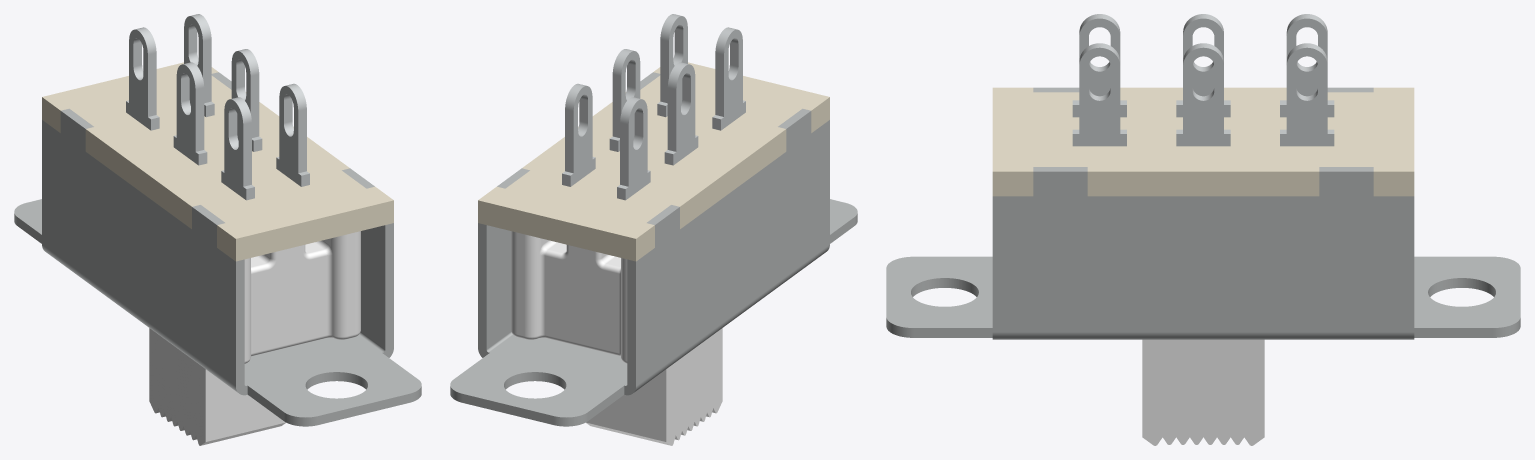
The model's file is Swirch_ON_OFF.glb.
3 views of the same model, side by side, from view 1: azimuth 30°, elevation 25°; view 2: azimuth 150°, elevation 25°; view 3: azimuth 270°, elevation 25° (orthographic). The views are drawn at different scales.
Visible parts, largest first — view 1: imagetostl_mesh3, imagetostl_mesh2, imagetostl_mesh0, imagetostl_mesh1; view 2: imagetostl_mesh3, imagetostl_mesh2, imagetostl_mesh0, imagetostl_mesh1; view 3: imagetostl_mesh3, imagetostl_mesh2, imagetostl_mesh1, imagetostl_mesh0.
Boxes of the visible parts, x1,y1,x2,y2 form: imagetostl_mesh3: [14, 72, 421, 426]; imagetostl_mesh2: [42, 62, 393, 261]; imagetostl_mesh0: [149, 231, 360, 445]; imagetostl_mesh1: [126, 14, 309, 200]; imagetostl_mesh3: [450, 72, 857, 426]; imagetostl_mesh2: [478, 62, 829, 261]; imagetostl_mesh0: [511, 231, 722, 445]; imagetostl_mesh1: [562, 14, 745, 200]; imagetostl_mesh3: [886, 87, 1520, 339]; imagetostl_mesh2: [992, 87, 1414, 196]; imagetostl_mesh1: [1072, 14, 1334, 146]; imagetostl_mesh0: [1142, 339, 1264, 445].
Size of the model in its own units: 7.3 by 15.95 by 23.3.
